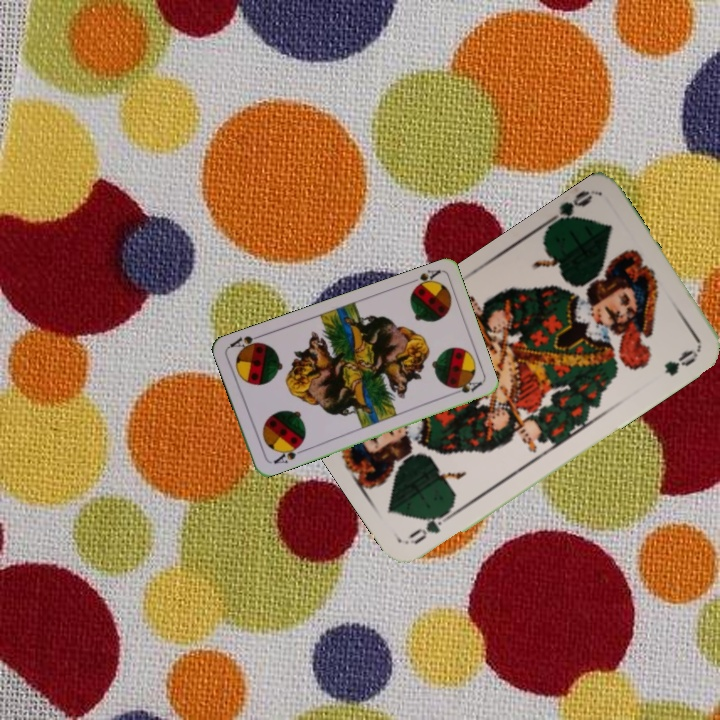GO: (404, 503, 459, 547), (542, 186, 596, 229)
SA: (404, 265, 443, 294), (269, 440, 306, 466)
